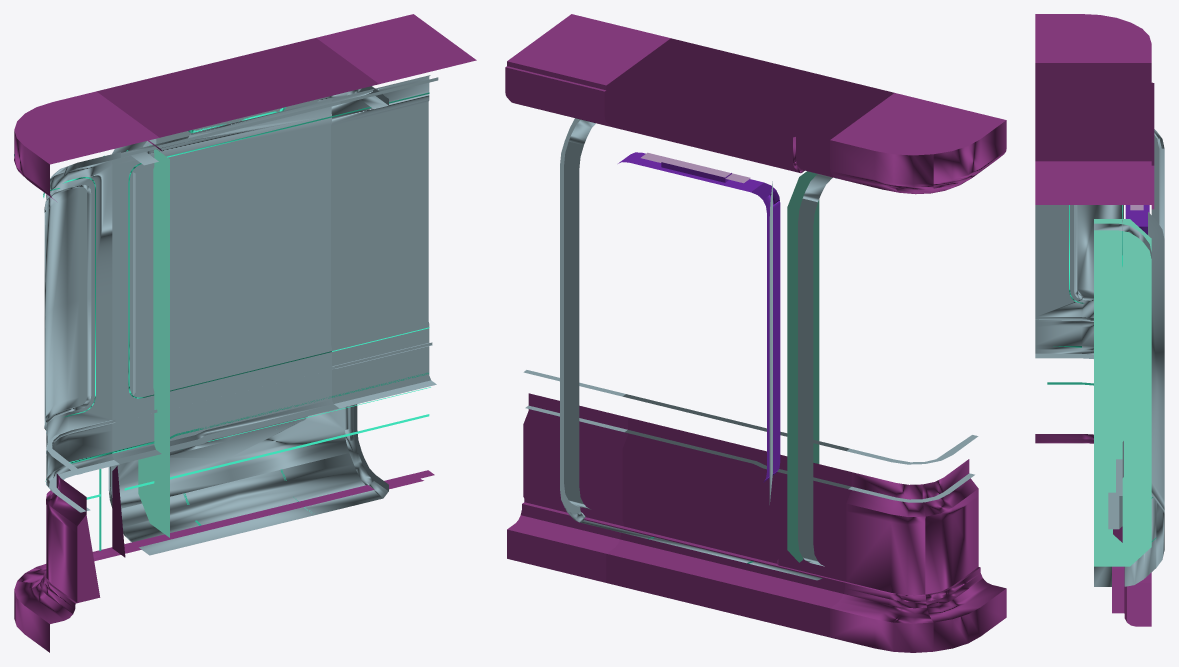
The model's file is hosp_lobby_ground_wall_corridor_a_lod1.glb.
3 views of the same model, side by side, from view 1: azimuth 30°, elevation 25°; view 2: azimuth 150°, elevation 25°; view 3: azimuth 270°, elevation 25° (orthographic). The views are drawn at different scales.
Bounding box in the file's own units: 3.89 × 4.25 × 1.11.
